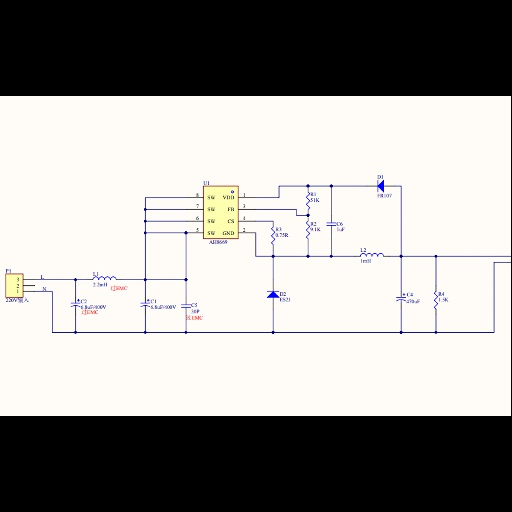capacitor: (323, 220, 336, 230), (180, 302, 192, 311)
firstdiode: (373, 179, 389, 193), (263, 289, 280, 301)
firstpolarcapacitor: (394, 291, 407, 304), (68, 297, 81, 309), (137, 298, 150, 310)
inductor: (89, 275, 121, 282), (358, 252, 388, 259)
secondresistance: (267, 225, 276, 248), (303, 190, 311, 212), (303, 219, 310, 243), (432, 289, 439, 313)
